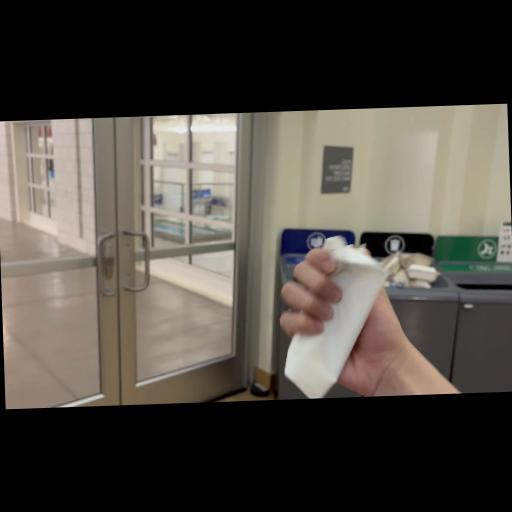napkin: (275, 231, 393, 400)
